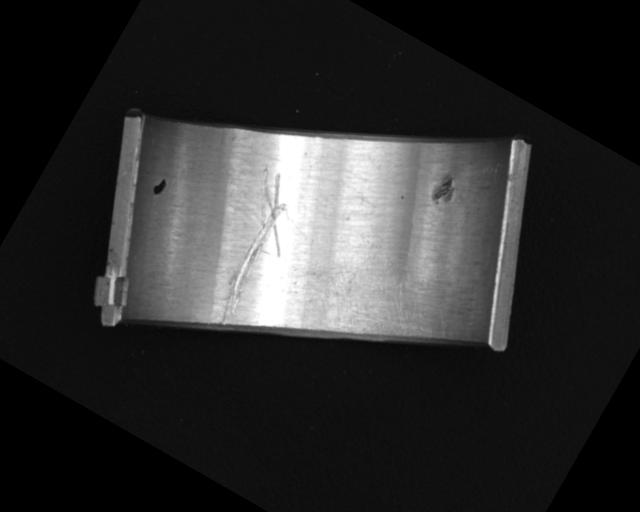blot: (148, 173, 170, 199)
bruise: (427, 169, 462, 210)
nick: (186, 166, 318, 336)
scratch: (307, 242, 462, 380)
